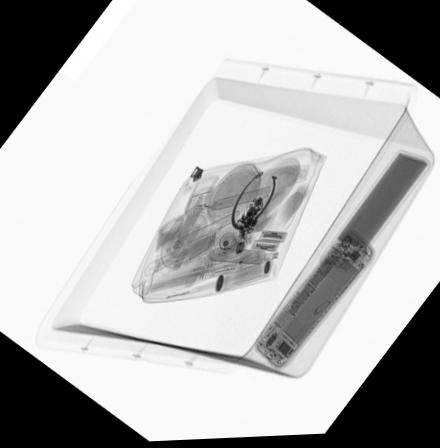Powerbank: (313, 149, 433, 278)
